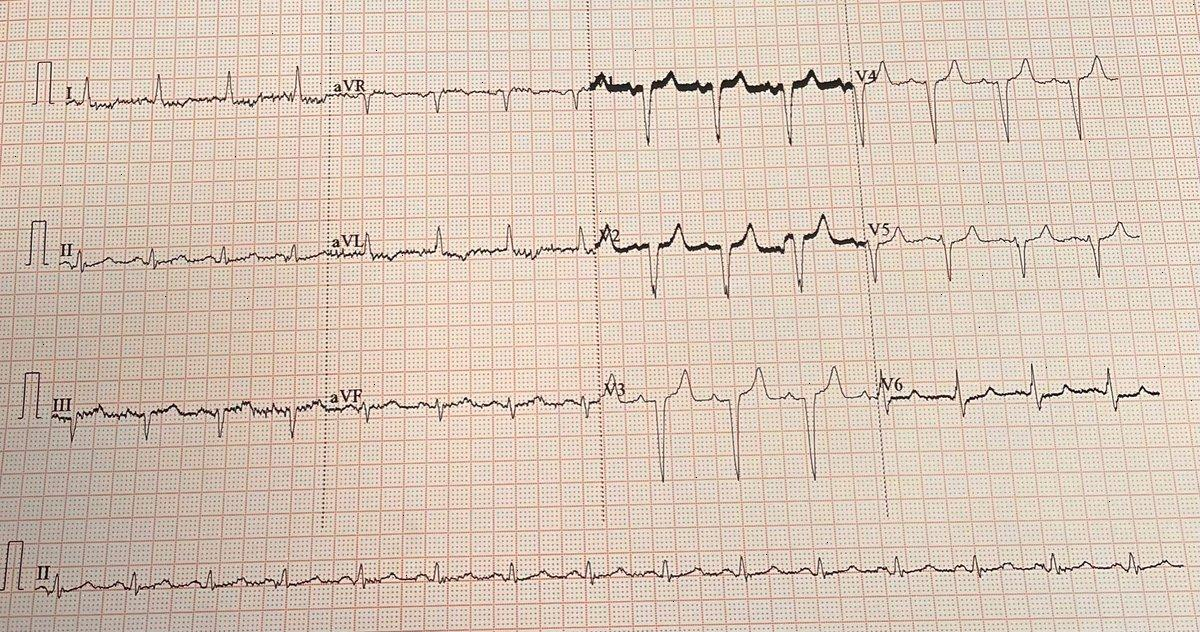Lead_I: (57, 56, 326, 134)
Lead_II: (51, 217, 324, 288)
Lead_III: (44, 369, 328, 454)
Lead_II_ext: (33, 529, 1194, 621)
Lead_V1: (589, 44, 867, 171)
Lead_V2: (591, 207, 867, 306)
Lead_V3: (602, 356, 876, 500)
Lead_V4: (846, 29, 1136, 164)
Lead_V5: (864, 199, 1149, 291)
Lead_V6: (872, 348, 1164, 434)
Lead_aVF: (326, 370, 605, 439)
Lead_aVL: (325, 216, 600, 277)
Lead_aVR: (326, 51, 588, 128)
